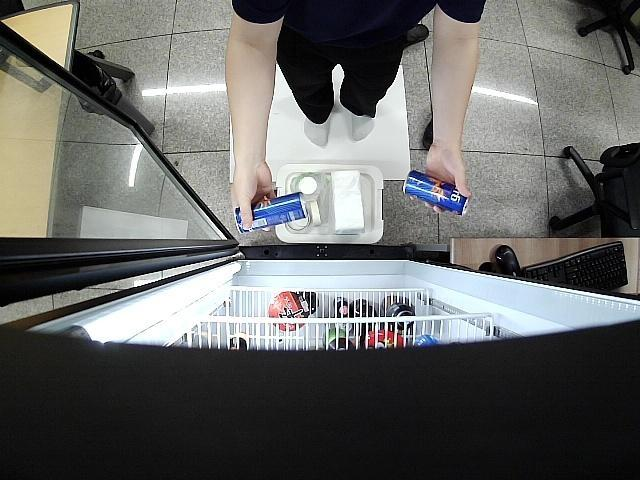16_hot6: (232, 192, 311, 234), (402, 168, 471, 216)
